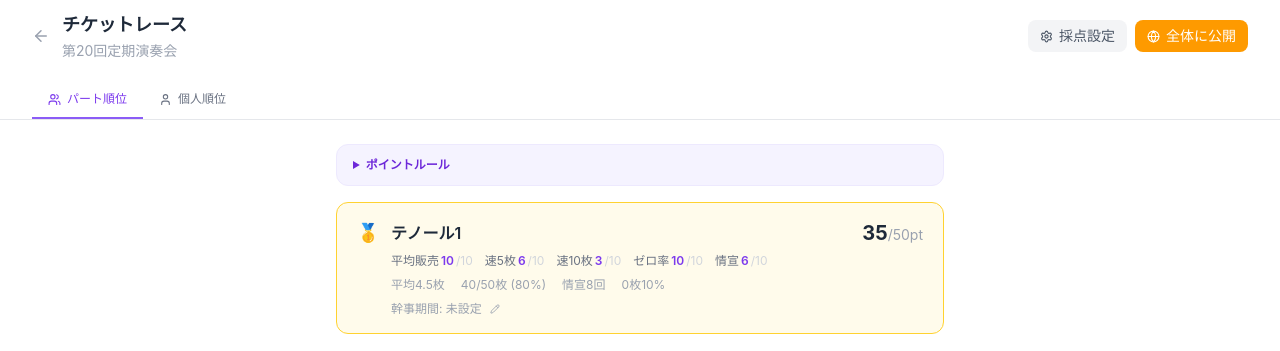
Test: RacePage（表示） › 個人順位タブに切り替えるとIndividualTableを表示する
Check: the text "テノール1" is shown, box [391,221,461,245]
Click the button "個人順位".
click(192, 100)  # box [143,81,242,119]
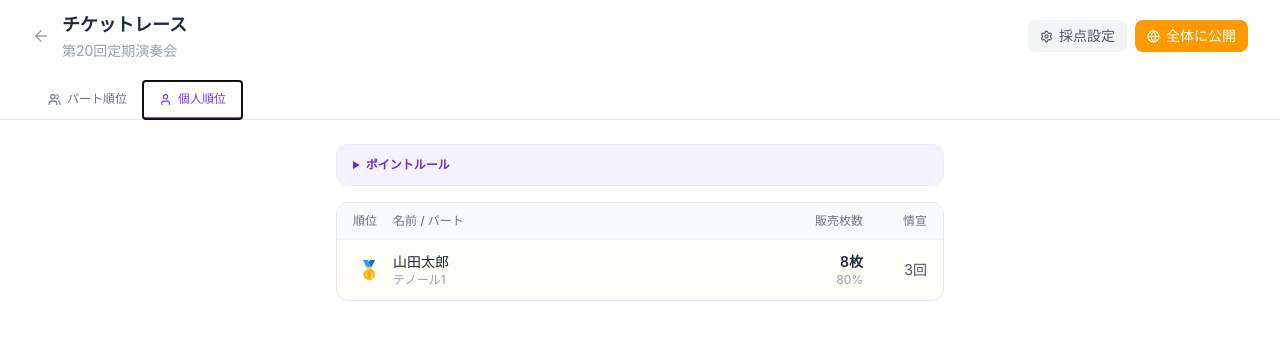
Check: the text "山田太郎" is shown, box [393,253,449,270]
